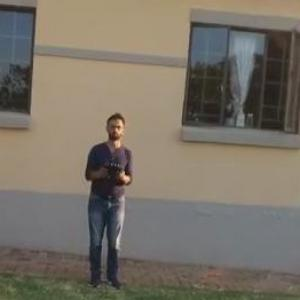follow: (76, 113, 134, 299)
